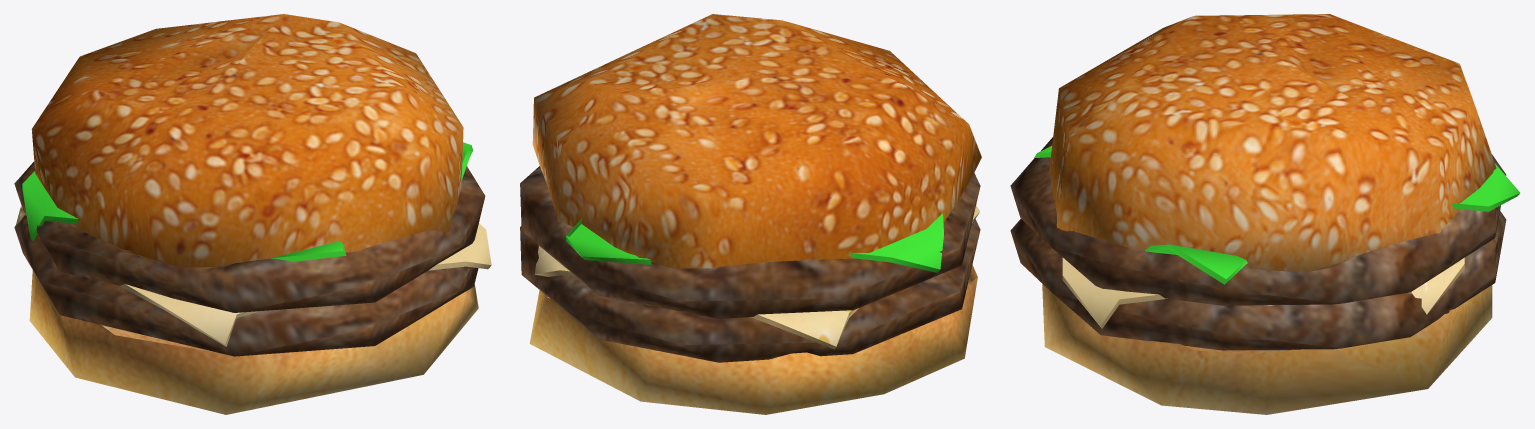
File: burger_big.fbx
3 views of the same model, side by side, from view 1: azimuth 30°, elevation 25°; view 2: azimuth 150°, elevation 25°; view 3: azimuth 270°, elevation 25° (orthographic). The views are drawn at different scales.
Parts seen in each view (by area): view 1: burger_bun_01_LOD00, burger_bun_04_LOD00, chopped_steak__LOD00.001, chopped_steak__LOD00, cheese_LOD00, cheese_LOD00.001; view 2: burger_bun_01_LOD00, burger_bun_04_LOD00, chopped_steak__LOD00.001, chopped_steak__LOD00, cheese_LOD00.001, cheese_LOD00; view 3: burger_bun_01_LOD00, burger_bun_04_LOD00, chopped_steak__LOD00.001, chopped_steak__LOD00, cheese_LOD00, cheese_LOD00.001.
Part boxes in pixels (bbox=[...]): burger_bun_01_LOD00: bbox=[31, 14, 463, 267]; burger_bun_04_LOD00: bbox=[29, 270, 478, 414]; chopped_steak__LOD00.001: bbox=[14, 161, 485, 312]; chopped_steak__LOD00: bbox=[14, 215, 478, 356]; cheese_LOD00: bbox=[16, 206, 491, 346]; cheese_LOD00.001: bbox=[22, 142, 473, 261]; burger_bun_01_LOD00: bbox=[532, 14, 981, 268]; burger_bun_04_LOD00: bbox=[529, 264, 977, 414]; chopped_steak__LOD00.001: bbox=[520, 166, 980, 318]; chopped_steak__LOD00: bbox=[520, 219, 980, 362]; cheese_LOD00.001: bbox=[566, 213, 943, 272]; cheese_LOD00: bbox=[534, 205, 979, 349]; burger_bun_01_LOD00: bbox=[1049, 14, 1496, 272]; burger_bun_04_LOD00: bbox=[1042, 284, 1492, 414]; chopped_steak__LOD00.001: bbox=[1010, 137, 1506, 305]; chopped_steak__LOD00: bbox=[1010, 211, 1506, 350]; cheese_LOD00: bbox=[1062, 257, 1464, 328]; cheese_LOD00.001: bbox=[1034, 146, 1519, 284].
Size of the model in its own units: 14.47 by 8.42 by 15.13.
